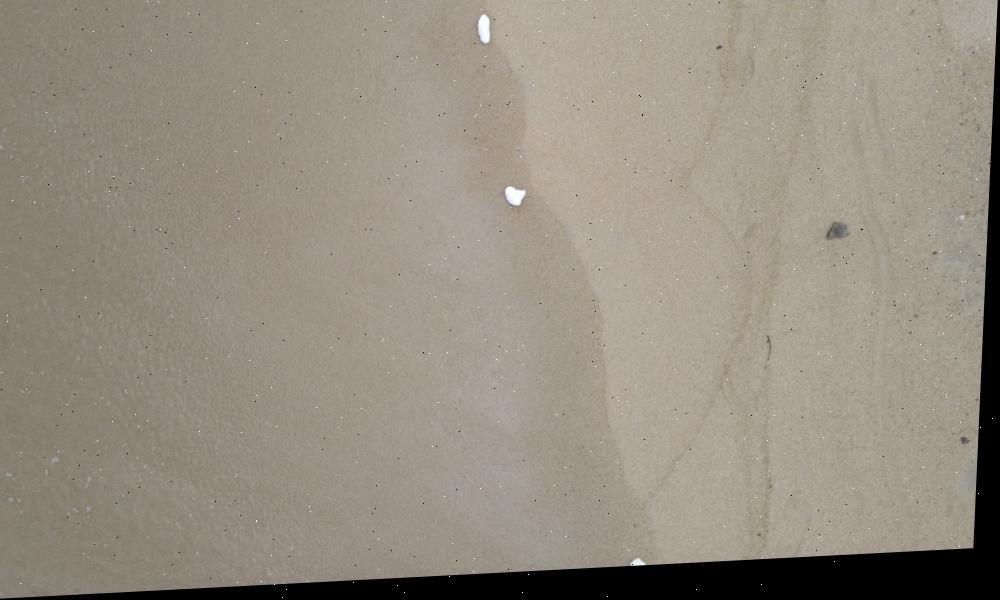styrofoam: (504, 190, 527, 212), (476, 19, 491, 51), (637, 563, 650, 573)
